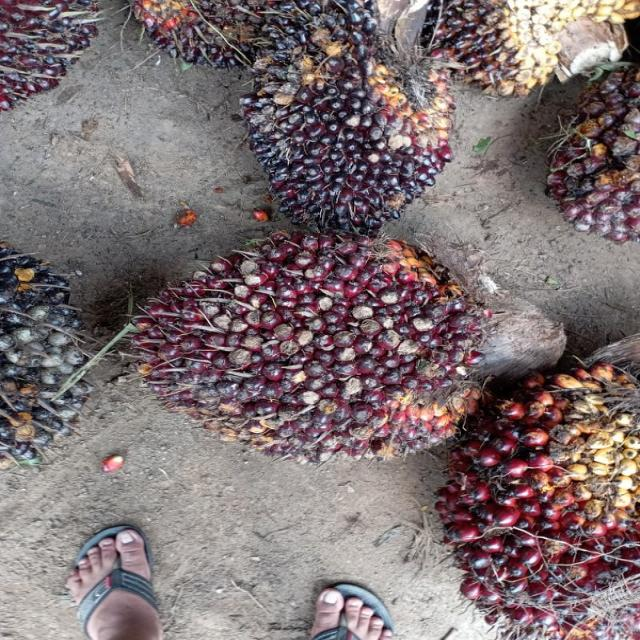fraksi 00: (224, 0, 439, 239)
fraksi 1: (136, 237, 489, 462), (445, 333, 640, 625)
